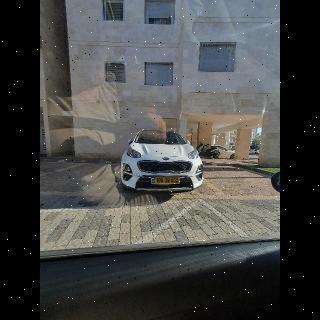LicensePlate: (155, 177, 180, 183)
